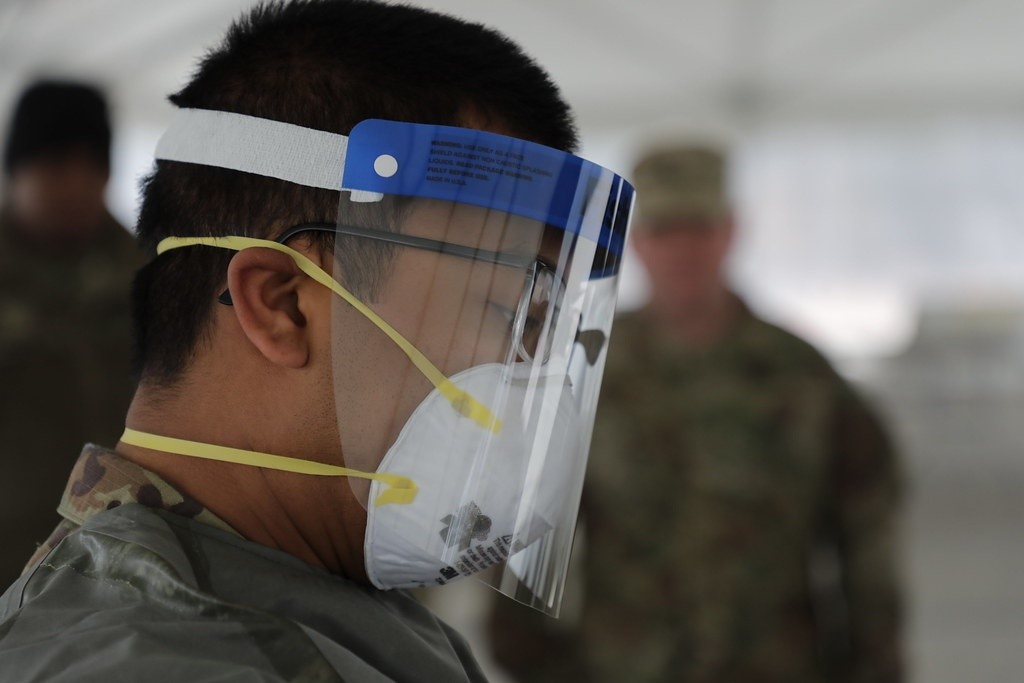face_with_mask: (138, 4, 597, 607)
